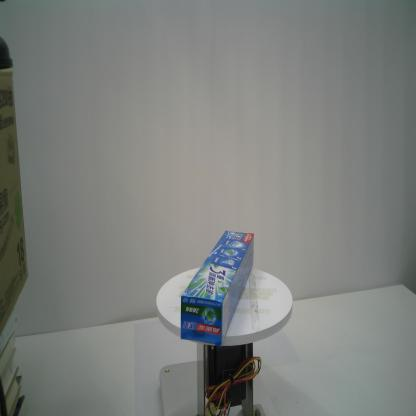Personal Hygiene: (181, 231, 254, 345)
